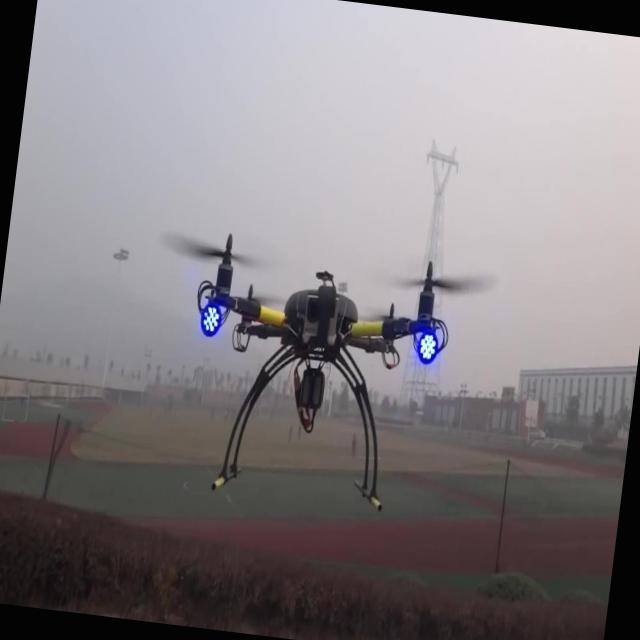drone: (169, 225, 463, 525)
